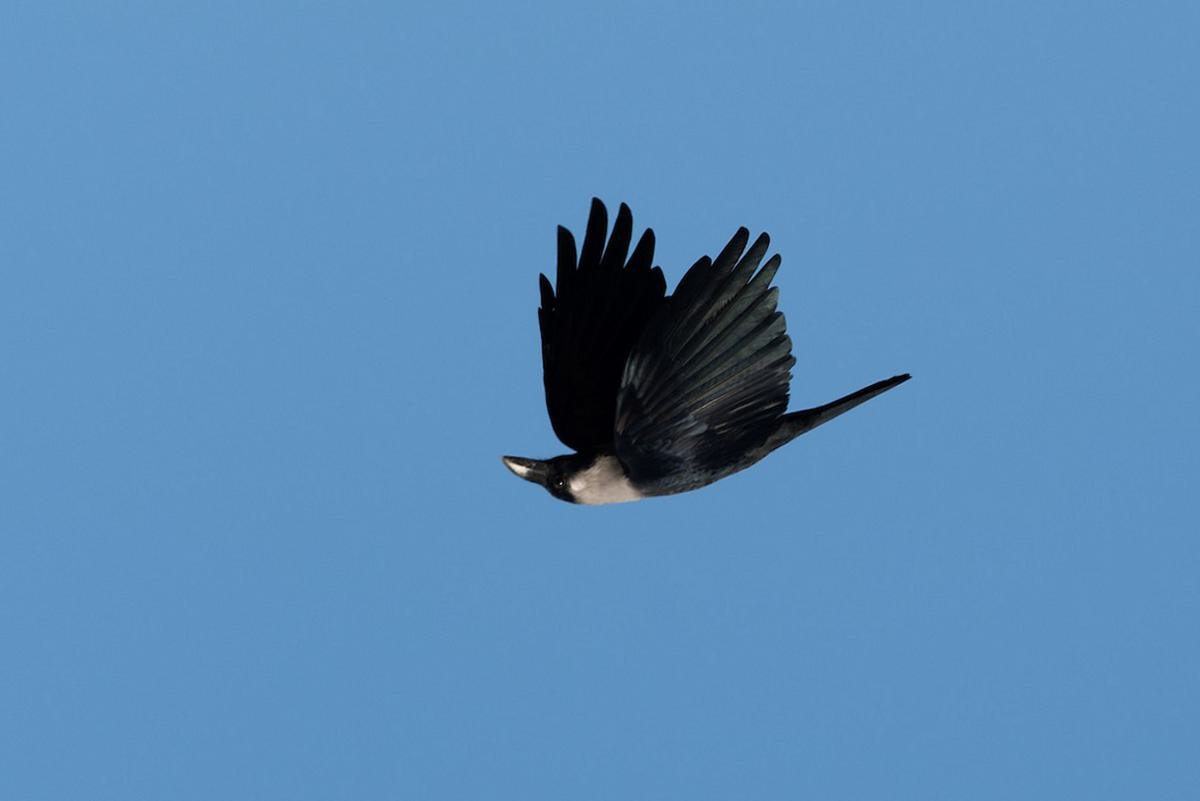crow: (495, 192, 936, 514)
